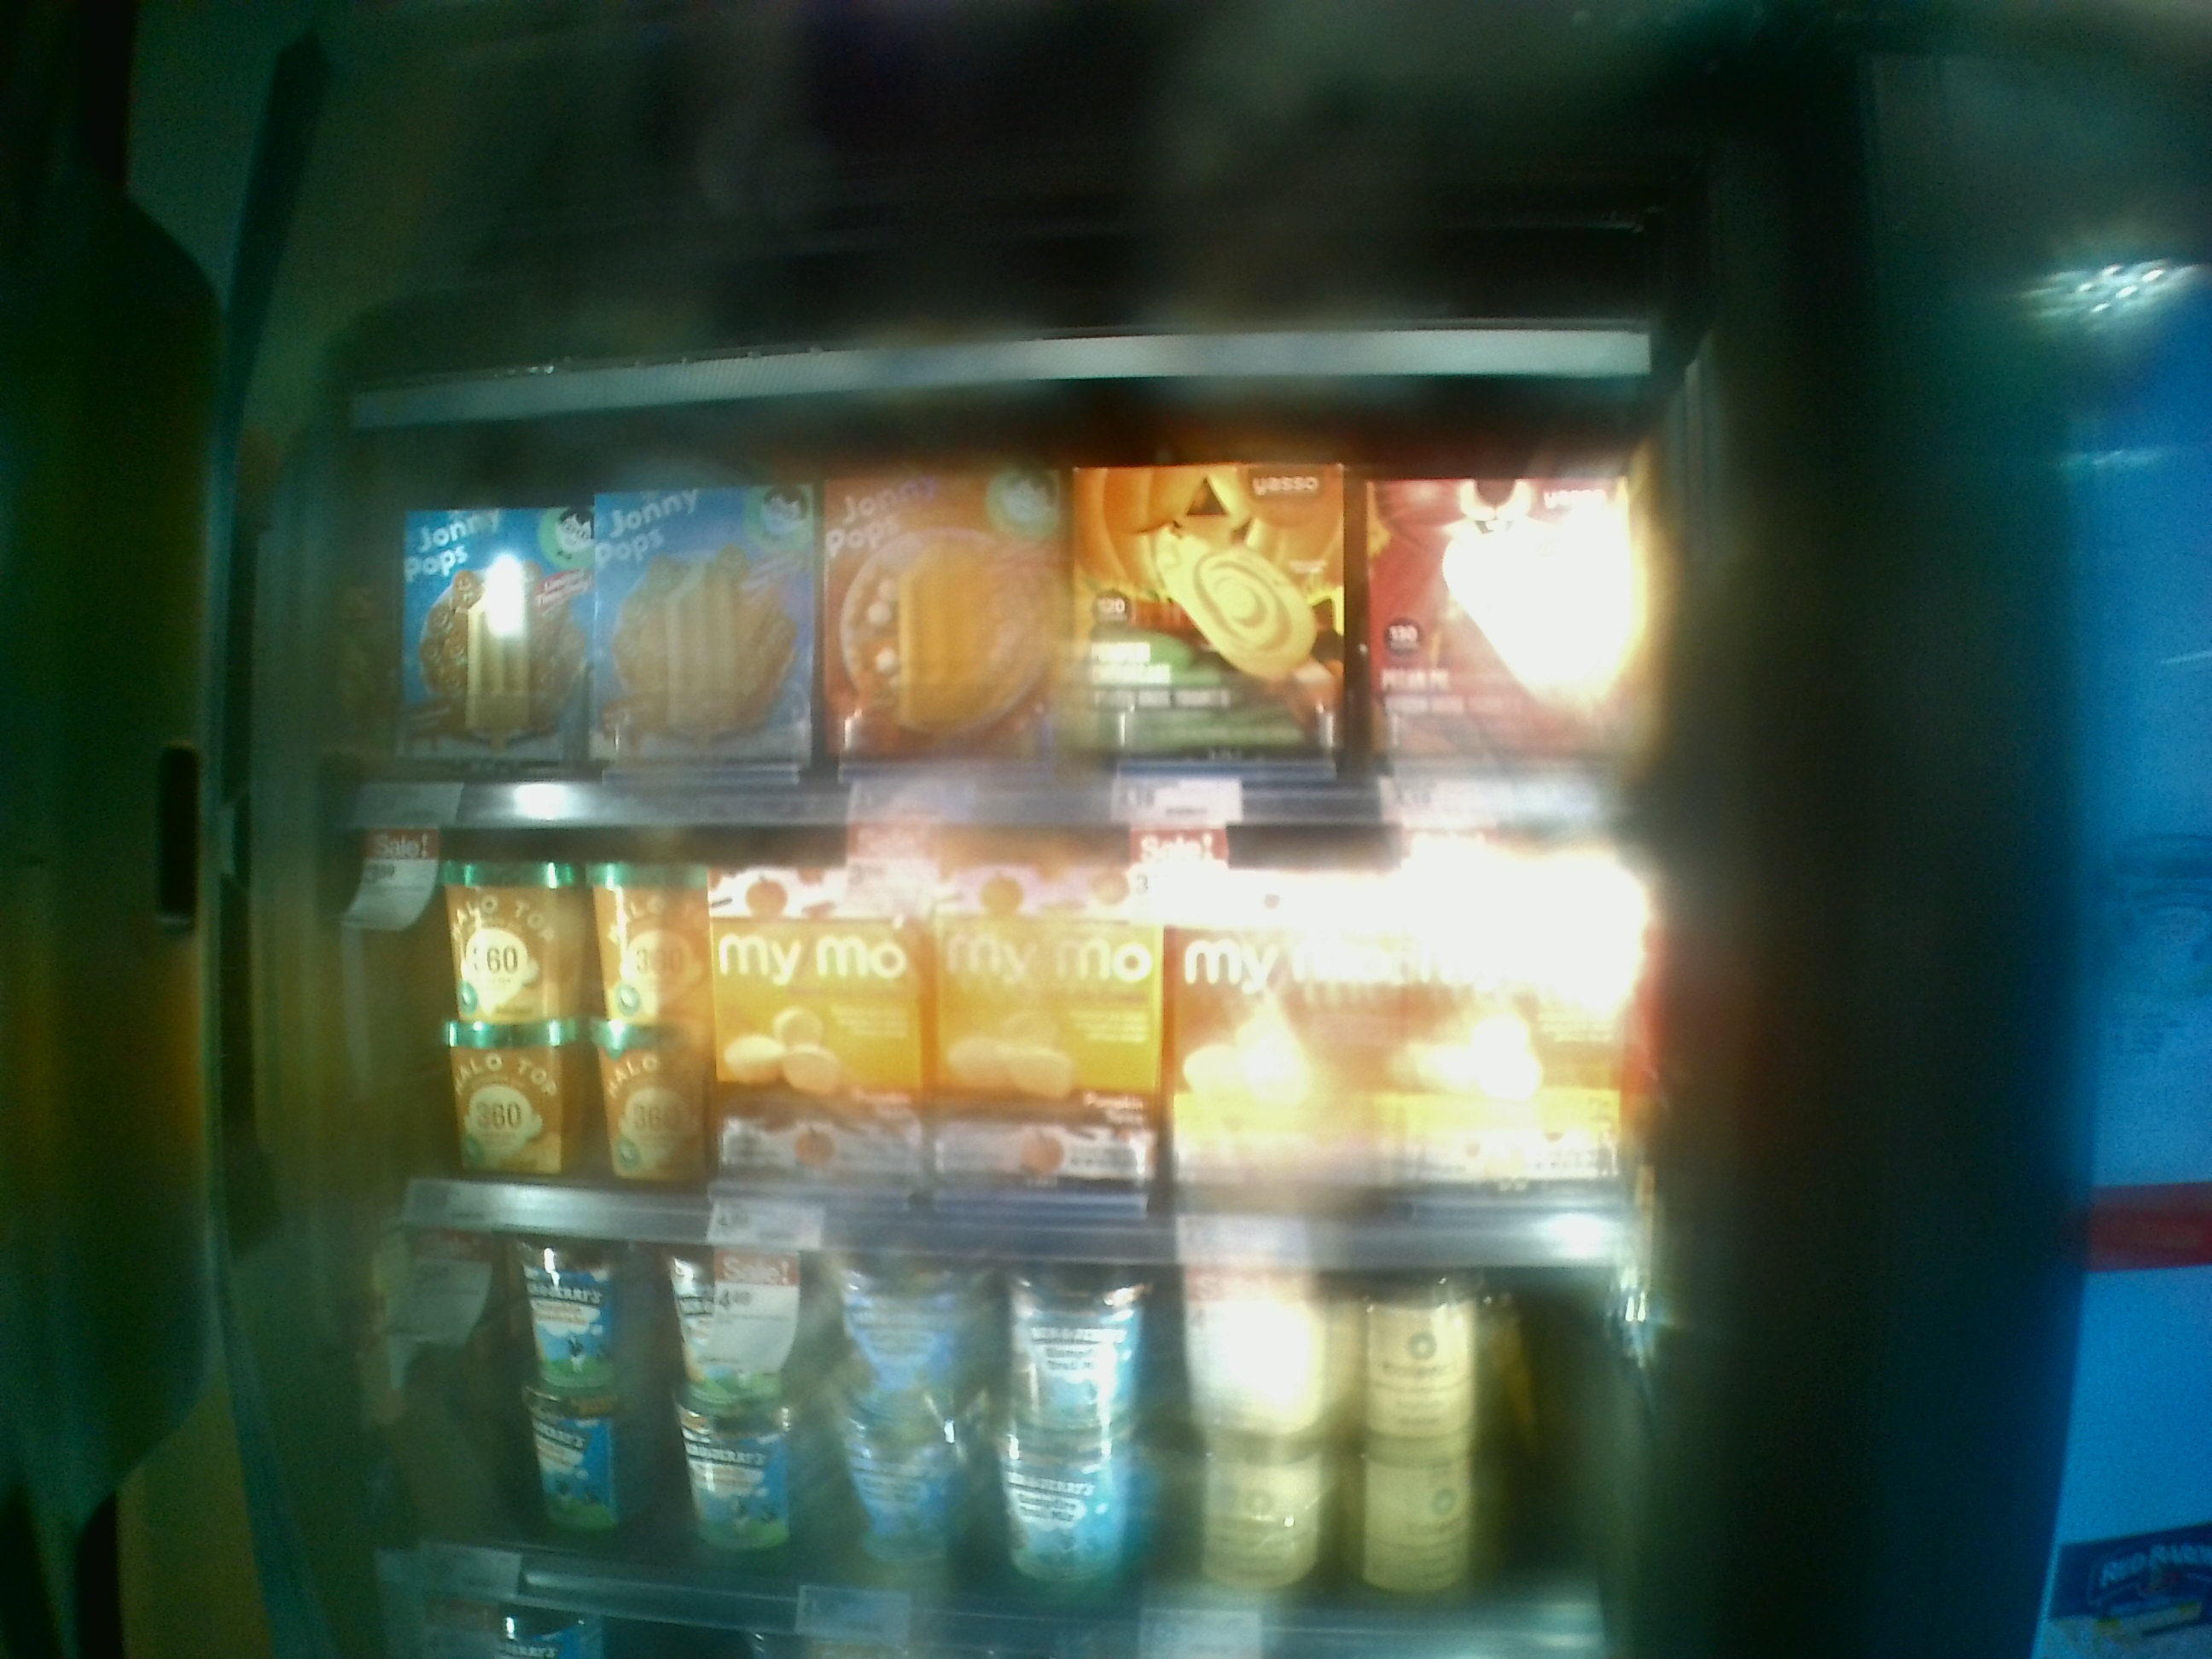shelf: (324, 838, 1663, 1276), (340, 427, 1663, 840)
